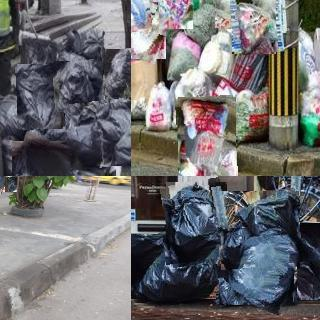Garbage: (214, 223, 299, 310), (215, 189, 302, 268), (131, 231, 217, 301), (163, 180, 230, 266), (176, 96, 237, 176), (65, 101, 131, 168), (6, 136, 91, 176), (16, 63, 64, 130), (224, 30, 269, 96), (171, 69, 213, 135), (53, 60, 104, 111), (230, 0, 277, 55), (228, 82, 271, 142), (131, 0, 170, 61), (197, 25, 236, 81), (167, 29, 202, 84), (295, 222, 320, 299), (72, 133, 116, 176), (297, 73, 320, 146), (144, 75, 172, 131), (103, 47, 131, 98), (213, 0, 253, 29), (158, 0, 193, 29), (5, 177, 17, 192), (0, 176, 7, 193)
